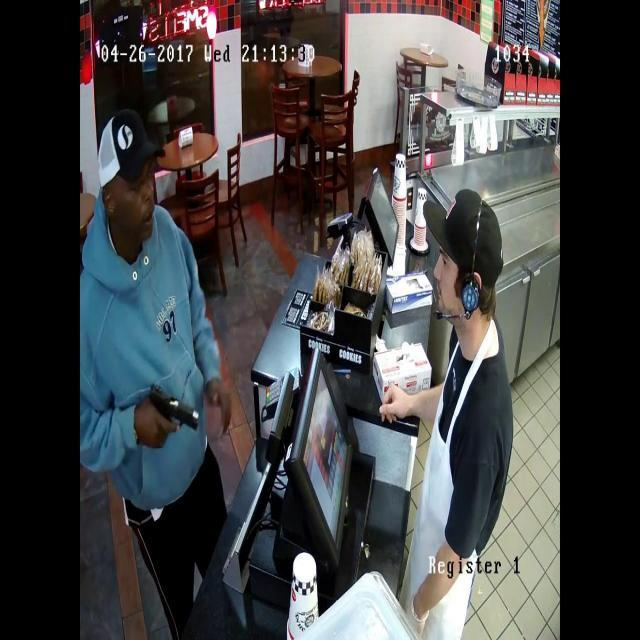weapon: (128, 373, 209, 450)
